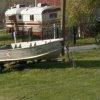Boat: (1, 34, 72, 73)
